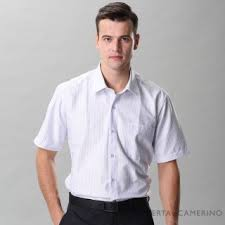F_shirt: (32, 61, 187, 201)
